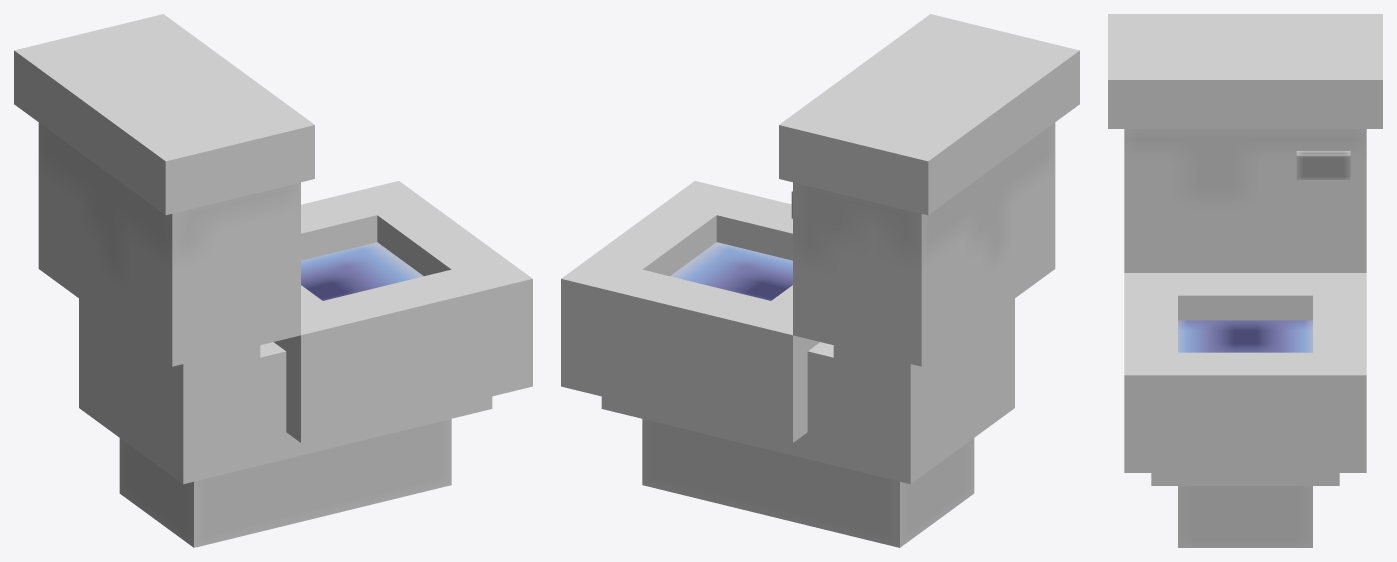
Rendered from Toilet.fbx.
3 views of the same model, side by side, from view 1: azimuth 30°, elevation 25°; view 2: azimuth 150°, elevation 25°; view 3: azimuth 270°, elevation 25° (orthographic). The views are drawn at different scales.
Parts seen in each view (by area): view 1: cube; view 2: cube; view 3: cube.
Part boxes in pixels (x1=…): cube: x1=14, y1=14, x2=532, y2=547; cube: x1=561, y1=14, x2=1079, y2=547; cube: x1=1108, y1=14, x2=1382, y2=547.
Bounding box in the file's own units: 22.81 × 25 × 15.94.
1 material, 1 textured.
